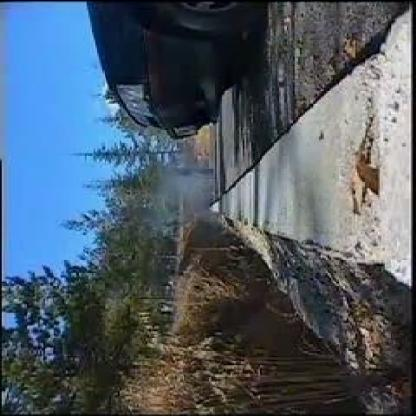-: (160, 171, 214, 225)
